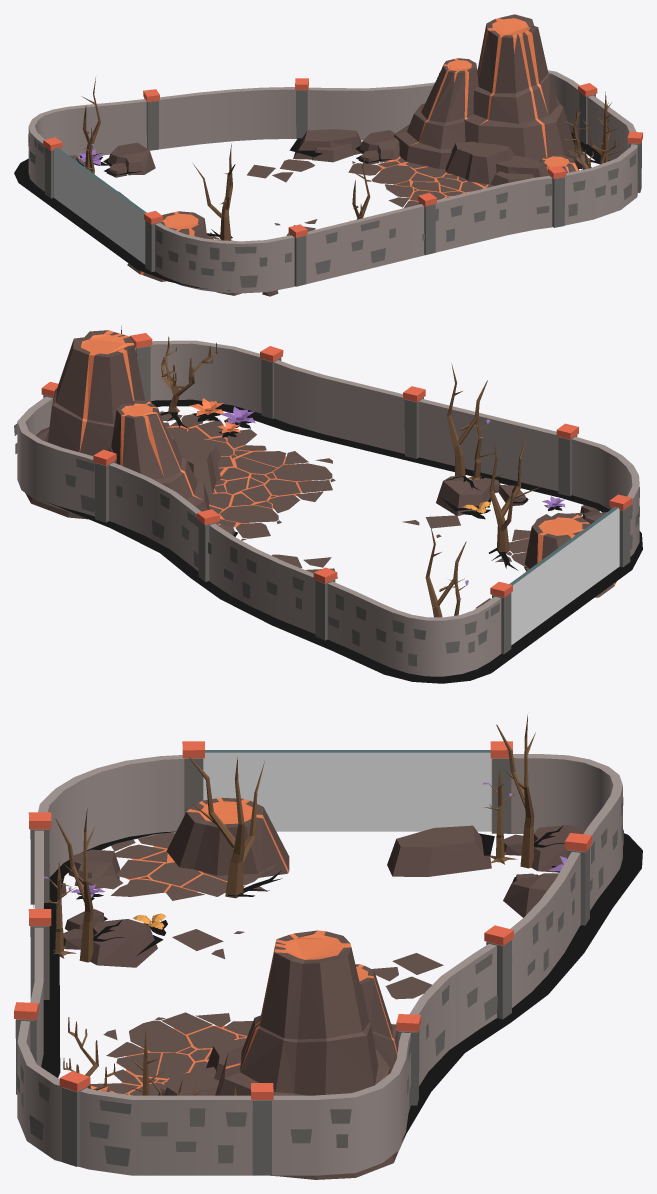
Rendered from xweilan_1019_3.FBX.
The picture shows the model from 3 angles, top to bottom: view 1: azimuth 30°, elevation 25°; view 2: azimuth 150°, elevation 25°; view 3: azimuth 270°, elevation 25°; orthographic projection. The views are drawn at different scales.
Visible parts, largest first — view 1: xweilan_1019_3; view 2: xweilan_1019_3; view 3: xweilan_1019_3.
Part boxes in pixels (left/top/right/bottom): xweilan_1019_3: left=14, top=14, right=642, bottom=296; xweilan_1019_3: left=14, top=326, right=642, bottom=683; xweilan_1019_3: left=14, top=715, right=642, bottom=1179.
Size of the model in its own units: 9245 by 2393 by 6903.
